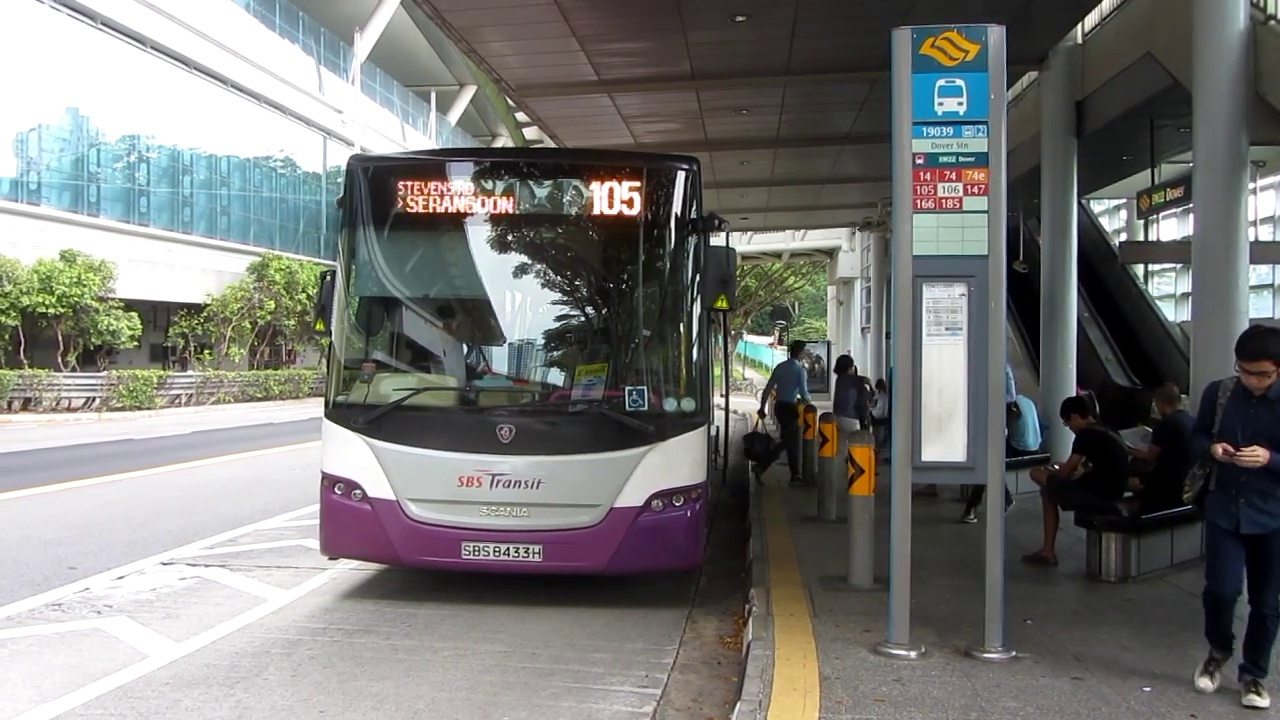bus panel: (389, 176, 644, 217)
